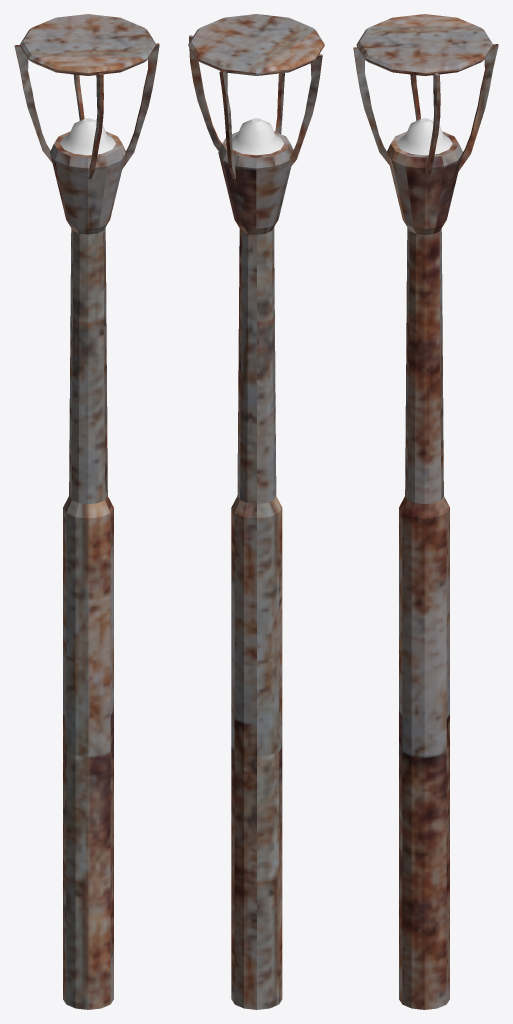
File: farolLuz_moderno_withEmission.fbx
3 views of the same model, side by side, from view 1: azimuth 90°, elevation 25°; view 2: azimuth 150°, elevation 25°; view 3: azimuth 270°, elevation 25° (orthographic).
Parts seen in each view (by area): view 1: Farol_Plaza.002; view 2: Farol_Plaza.002; view 3: Farol_Plaza.002.
Part boxes in pixels (x1=…): Farol_Plaza.002: x1=14, y1=14, x2=159, y2=1009; Farol_Plaza.002: x1=188, y1=14, x2=324, y2=1009; Farol_Plaza.002: x1=353, y1=14, x2=498, y2=1009.
Bounding box in the file's own units: 1.39 × 10.54 × 1.45.
Materials: 2 (1 with a texture image).
